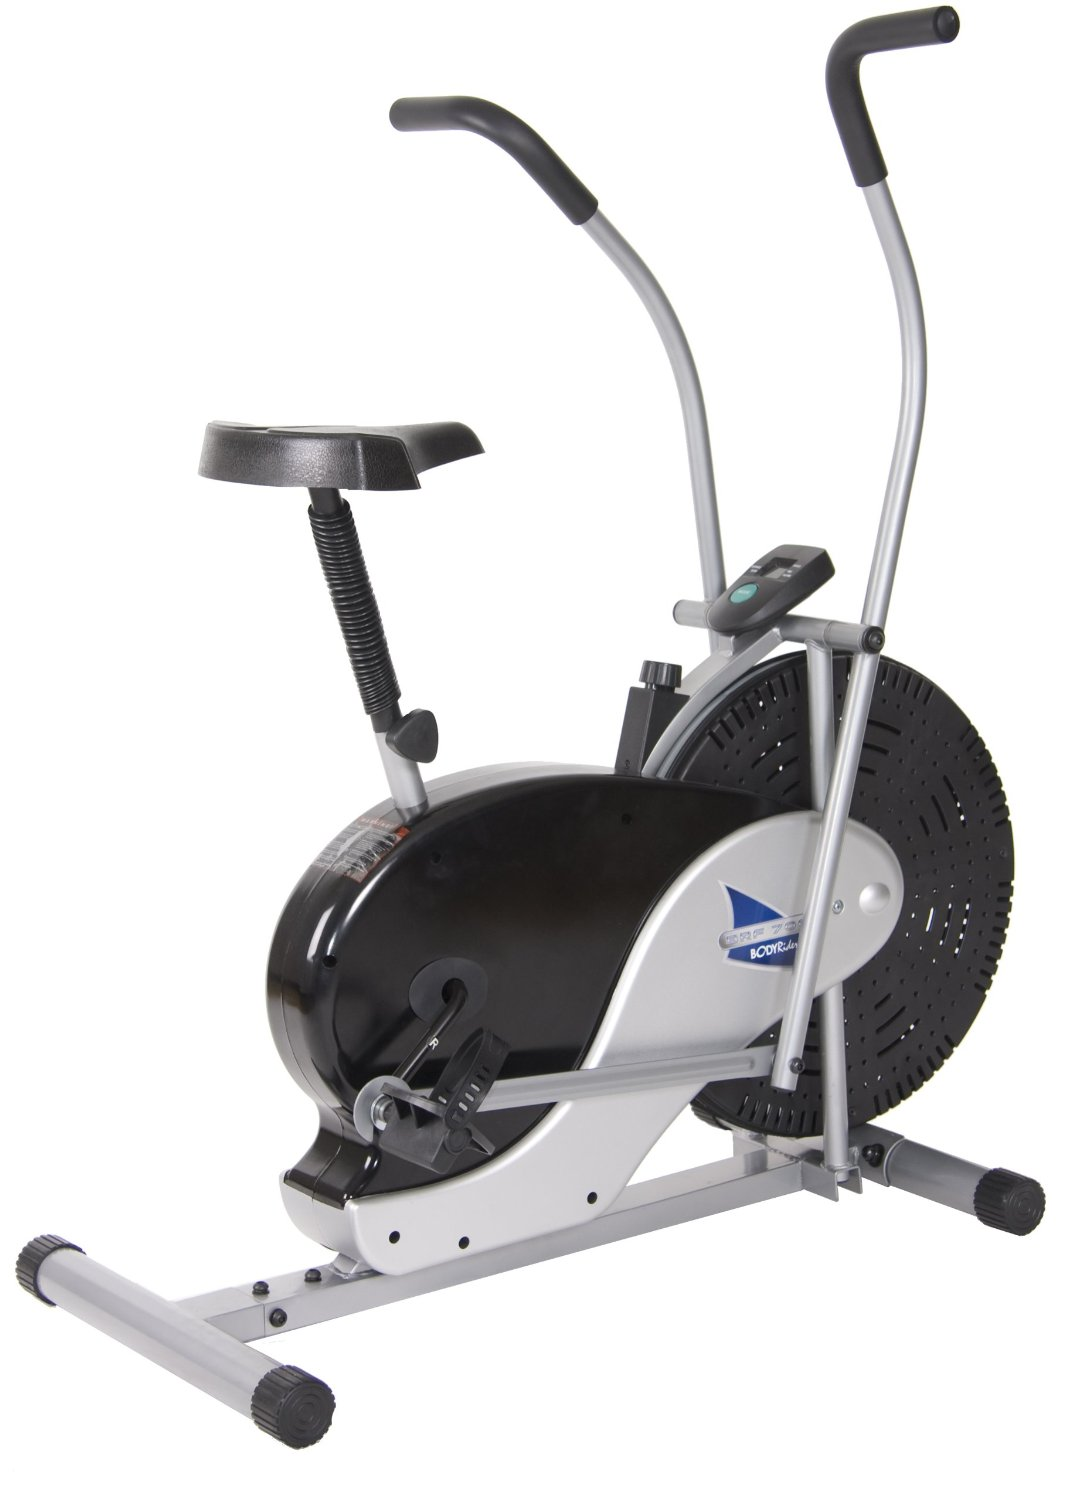gym_bike: (24, 1, 1054, 1446)
